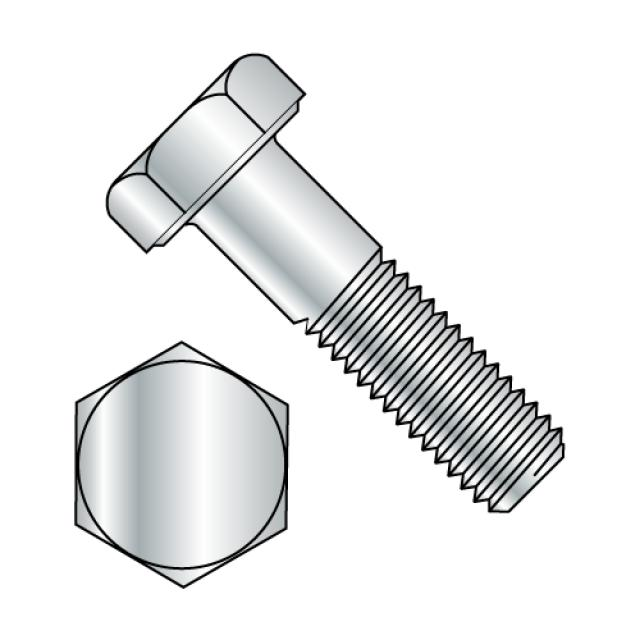Bolt: (101, 51, 574, 520), (73, 340, 293, 590)
